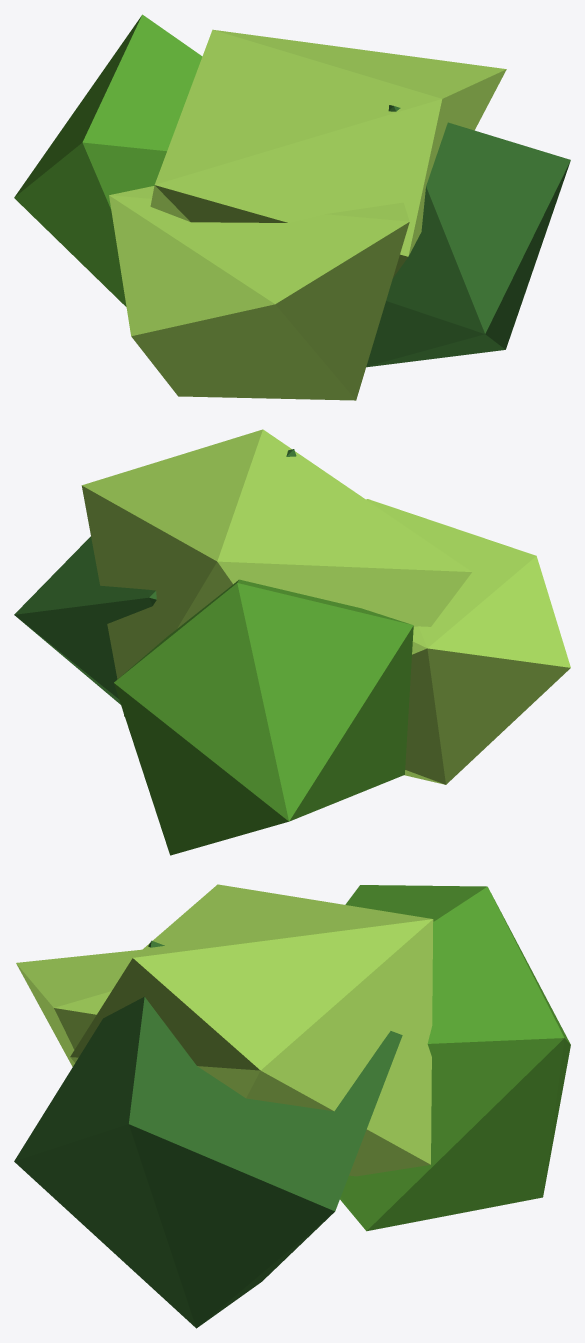
File: bush_1_lod2.glb
3 renders of one model, top to bottom at view 1: azimuth 30°, elevation 25°; view 2: azimuth 150°, elevation 25°; view 3: azimuth 270°, elevation 25°, orthographic. The views are drawn at different scales.
Visible parts, largest first — view 1: bush_1_lod2; view 2: bush_1_lod2; view 3: bush_1_lod2.
Part boxes in pixels (x1,y1,x2,y2): bush_1_lod2: (14,14,570,400); bush_1_lod2: (14,429,570,855); bush_1_lod2: (14,884,570,1328).
Size of the model in its own units: 1.79 by 1.13 by 1.7.
